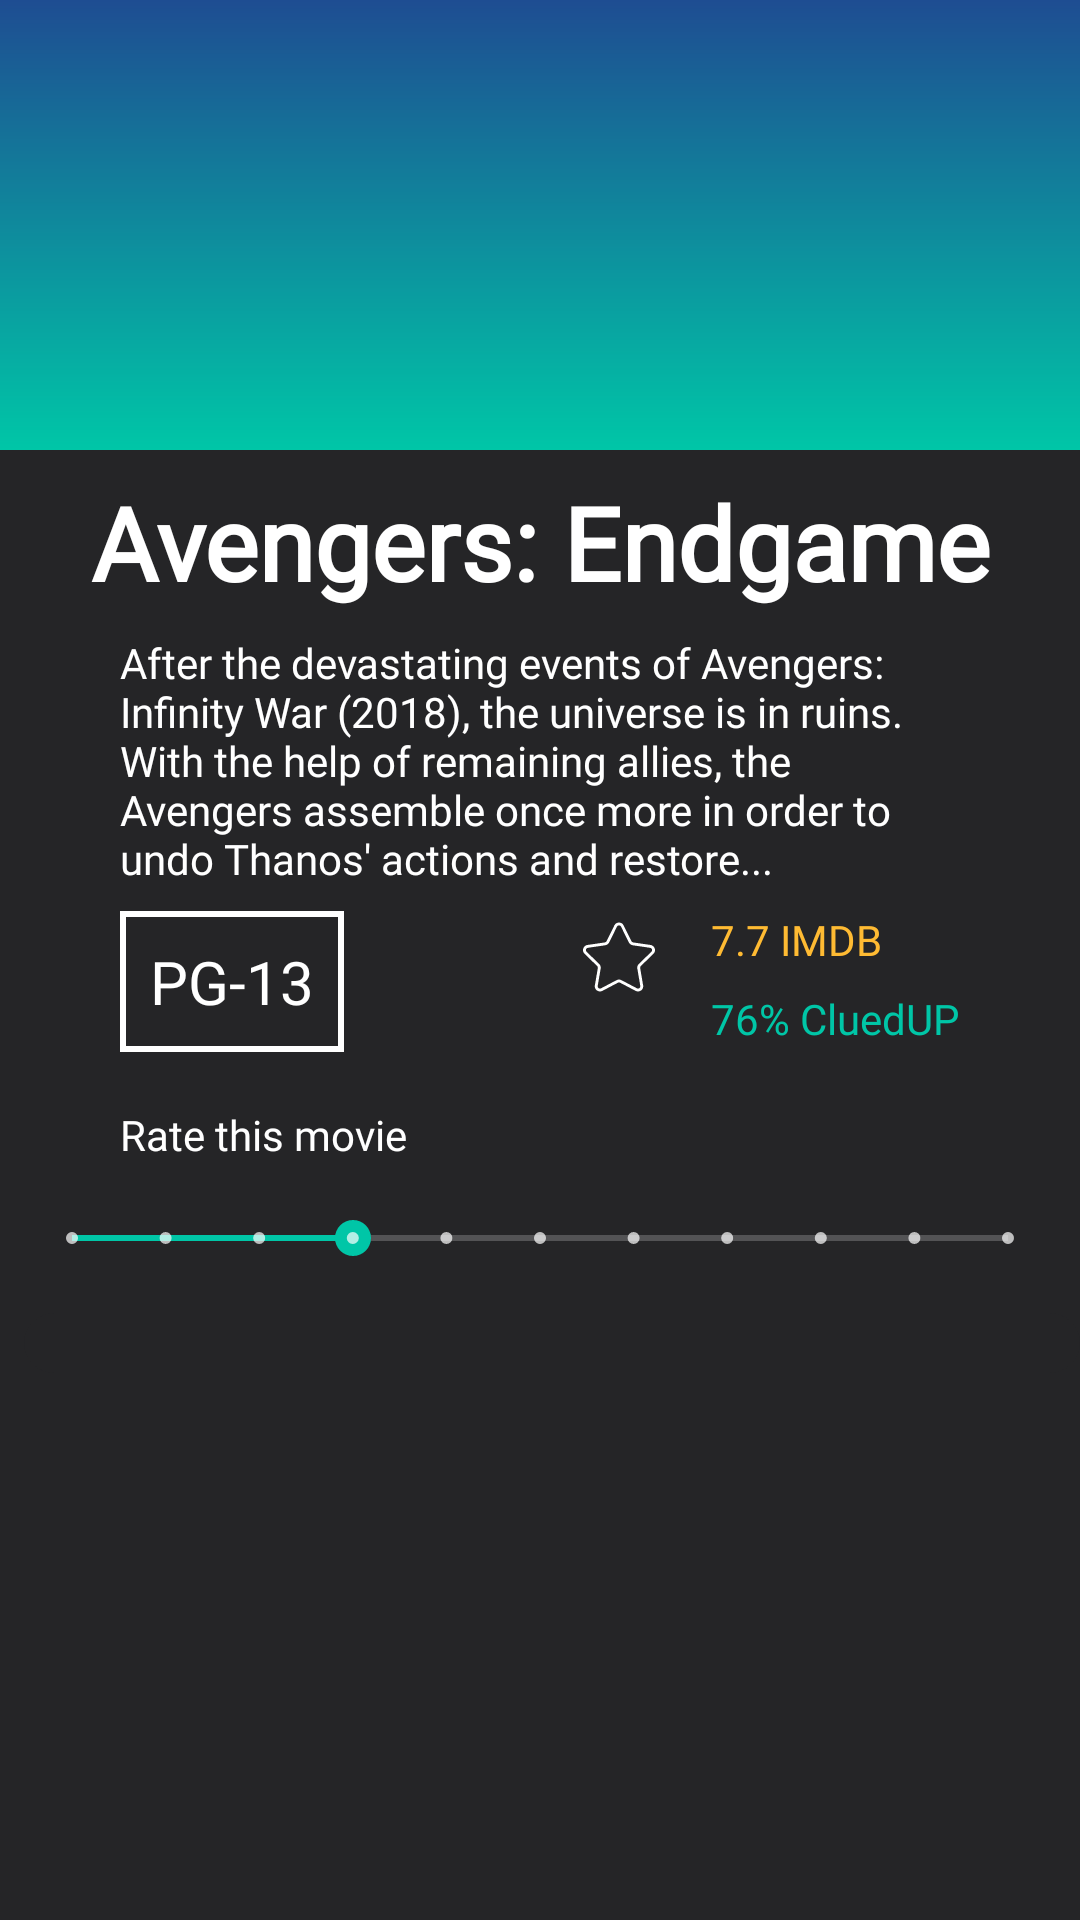

Point at icon controls on the screen. Image size 1080x1920, points as (x,y).
star: (619,957)
